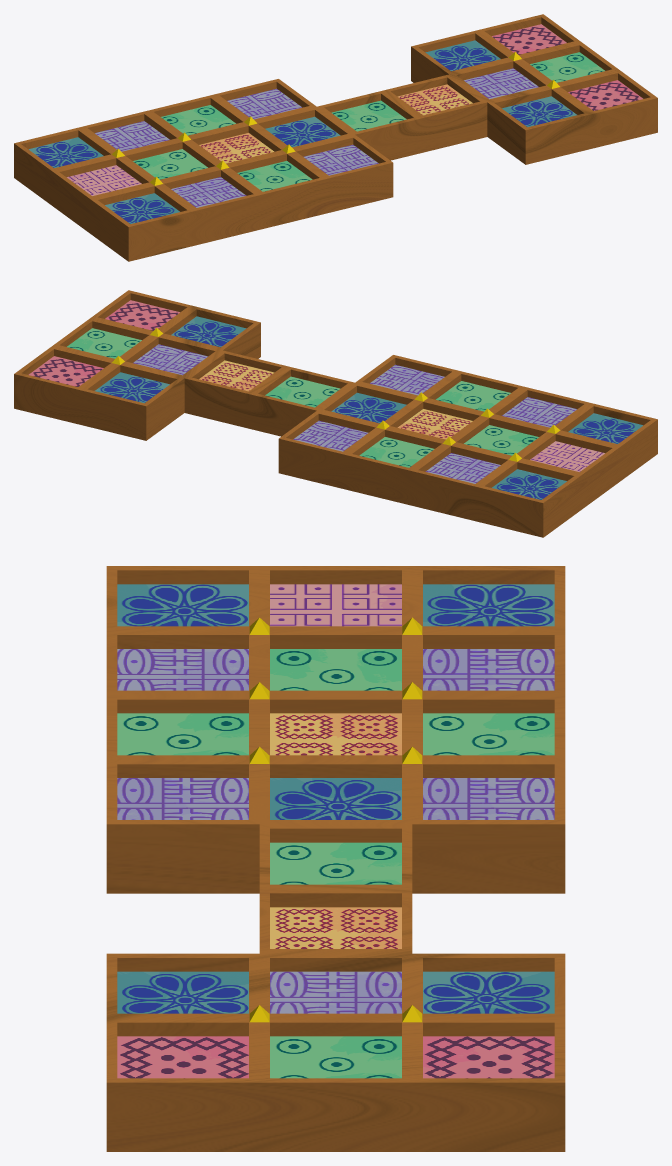
The model's file is BoardCommissiontex.fbx.
3 renders of one model, top to bottom at view 1: azimuth 30°, elevation 25°; view 2: azimuth 150°, elevation 25°; view 3: azimuth 270°, elevation 25°, orthographic. The views are drawn at different scales.
Parts seen in each view (by area): view 1: BoardGame; view 2: BoardGame; view 3: BoardGame.
Boxes of the visible parts, x1,y1,x2,y2 form: BoardGame: (14, 14, 657, 261); BoardGame: (14, 290, 657, 537); BoardGame: (106, 566, 565, 1151).
Size of the model in its own units: 1600 by 119 by 600.
15 materials, 7 textured.
